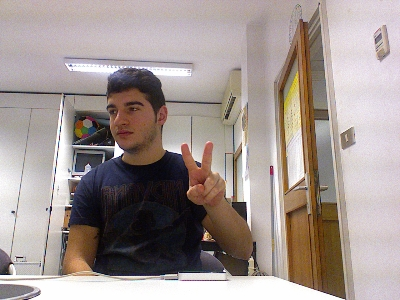剪刀: (180, 140, 227, 207)
